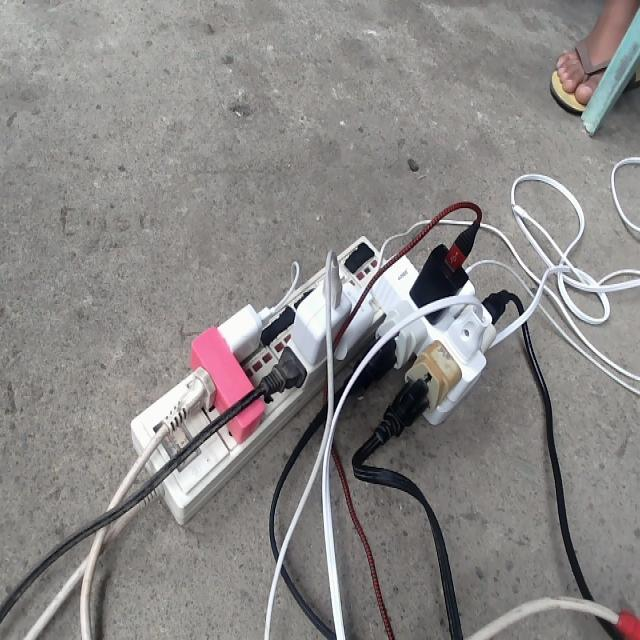-: (127, 197, 517, 527)
